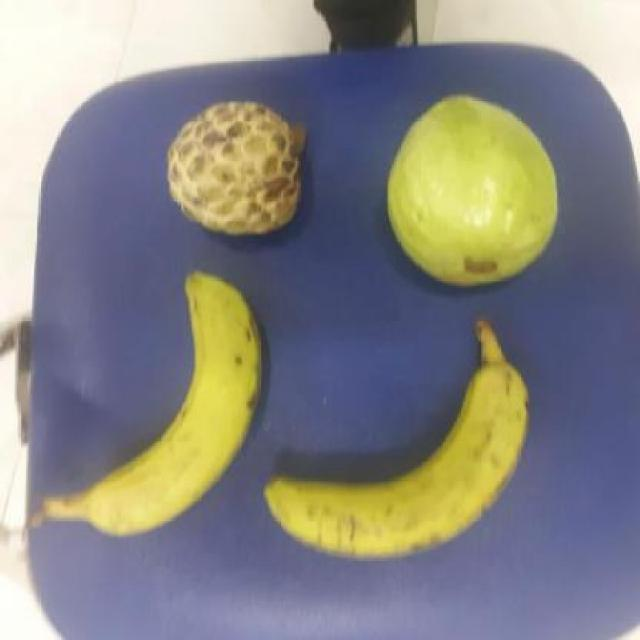banana: (270, 356, 541, 558), (89, 276, 268, 539)
guava: (388, 101, 565, 282), (171, 101, 311, 235)
sugar apple: (168, 101, 309, 237)
